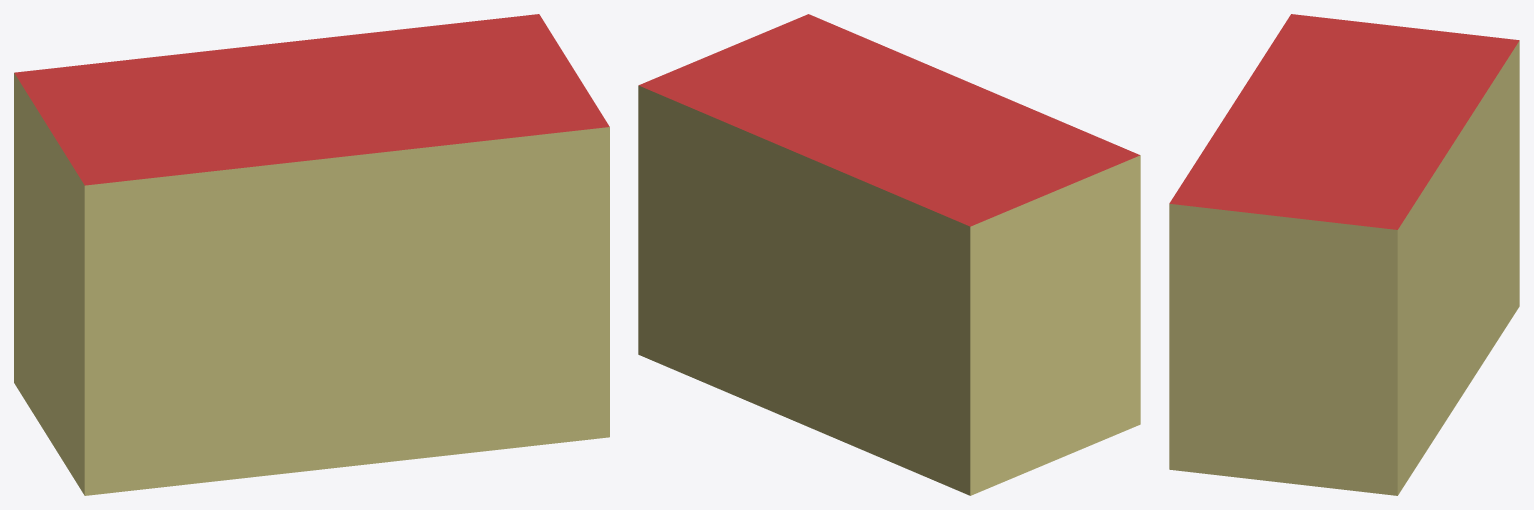
3 views of the same model, side by side, from view 1: azimuth 30°, elevation 25°; view 2: azimuth 150°, elevation 25°; view 3: azimuth 270°, elevation 25° (orthographic). The views are drawn at different scales.
Size of the model in its own units: 12.12 by 8.32 by 6.96.
